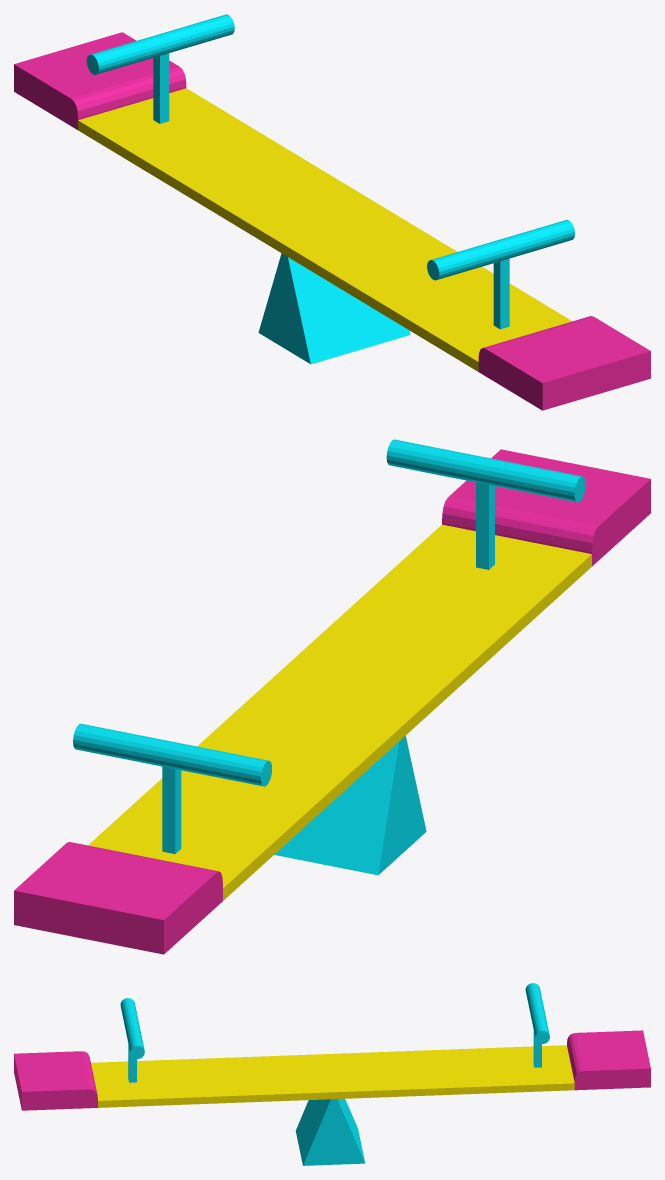
File: agility-seesaw.glb
3 views of the same model, one above another, from view 1: azimuth 30°, elevation 25°; view 2: azimuth 150°, elevation 25°; view 3: azimuth 270°, elevation 25° (orthographic). The views are drawn at different scales.
Visible parts, largest first — view 1: Box005; view 2: Box005; view 3: Box005.
Boxes of the visible parts, x1,y1,x2,y2 form: Box005: (14,14,650,410); Box005: (14,439,650,954); Box005: (14,983,650,1165).
Size of the model in its own units: 0.7061 by 0.6896 by 3.
